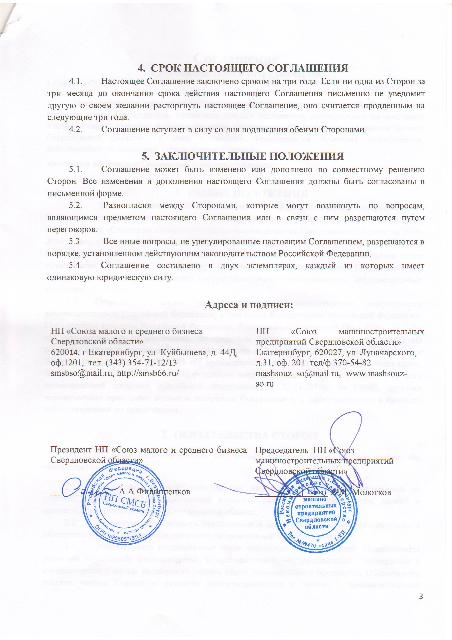stamp: (84, 460, 166, 548), (274, 470, 356, 552)
